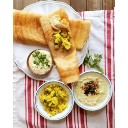dosa: (37, 8, 84, 85), (12, 7, 91, 49)
